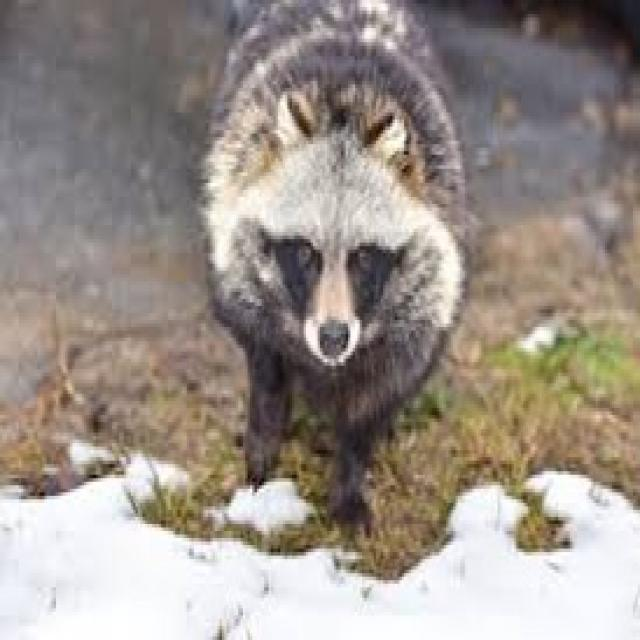racoon: (205, 0, 488, 499)
